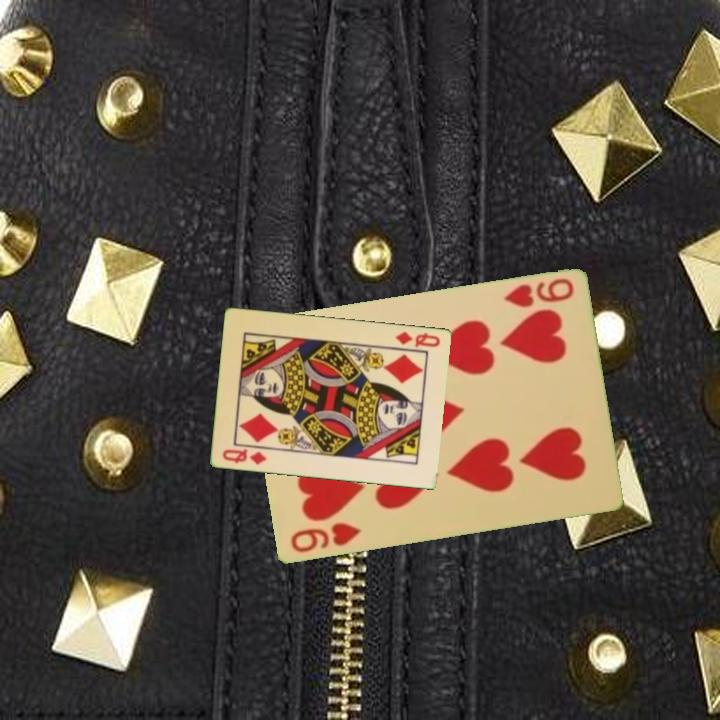9h: (287, 519, 365, 556), (500, 275, 577, 311)
Qd: (392, 328, 443, 350), (219, 445, 270, 467)
